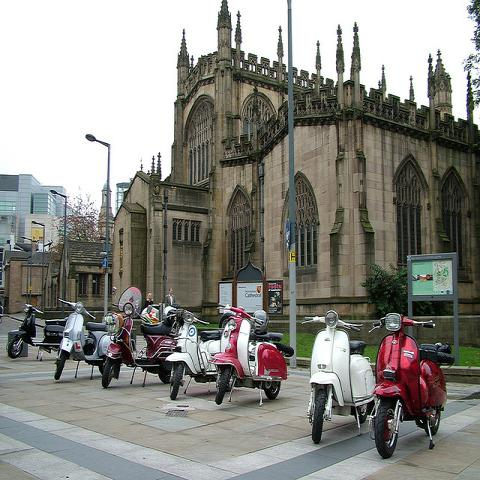motorcycle: (367, 312, 452, 459), (301, 309, 377, 445), (208, 304, 294, 408), (100, 289, 177, 390), (169, 307, 224, 401), (54, 298, 110, 380), (19, 302, 68, 361), (5, 334, 33, 360)
